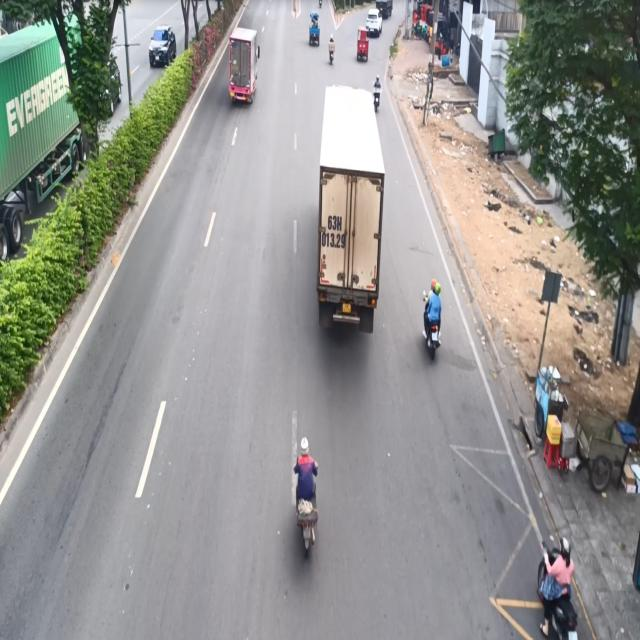car: (365, 6, 384, 35)
motor: (536, 526, 578, 640), (293, 437, 324, 565), (420, 274, 448, 357), (326, 30, 335, 66)
truck: (319, 83, 385, 346), (230, 23, 258, 104)
